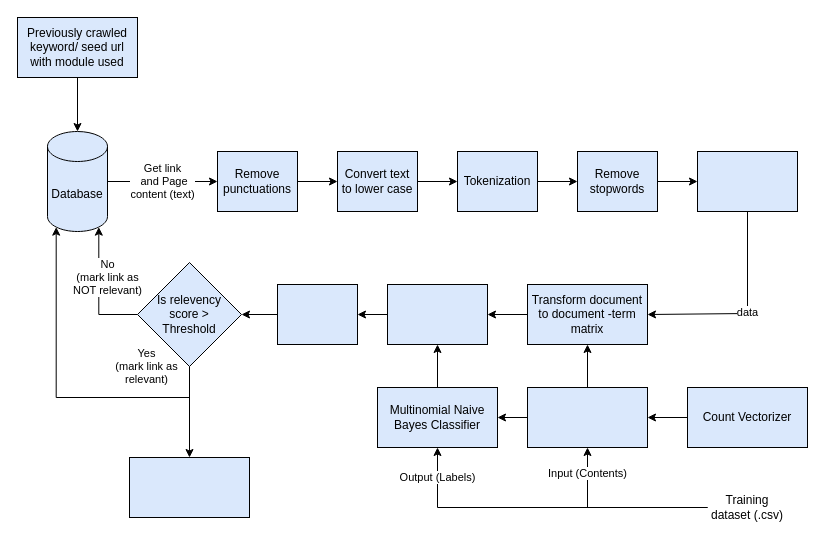
Some shapes in this 825 by 539 pixel diagram are drawn without their labels. Here are the shapes that lost their labels. From the top down, the centre of each, then its label:
At point (747, 181): "Lemmatization".
At point (317, 314): "Evaluate relevancy score".
At point (437, 314): "Get predictions (Classification)".
At point (587, 417): "Fit and transform (learn vocabulary)".
At point (189, 487): "Display link on screen".
